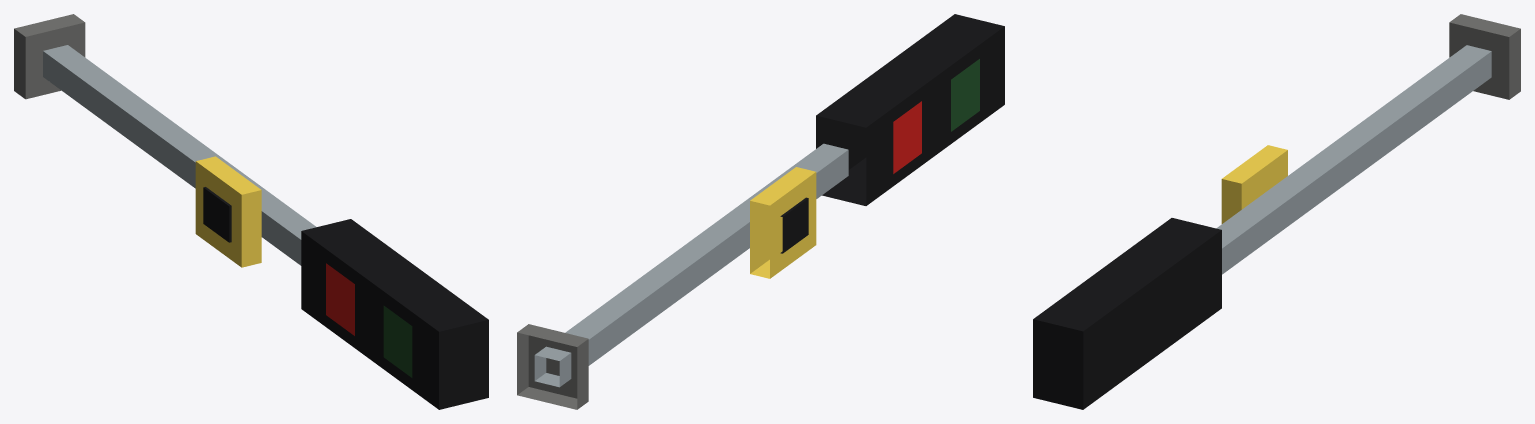
File: red.glb
The picture shows the model from 3 angles, left to right: view 1: azimuth 30°, elevation 25°; view 2: azimuth 150°, elevation 25°; view 3: azimuth 330°, elevation 25°; orthographic projection.
Visible parts, largest first — view 1: signal_electric_combo_red; view 2: signal_electric_combo_red; view 3: signal_electric_combo_red.
Boxes of the visible parts, left/top/right/bottom form: signal_electric_combo_red: left=14, top=14, right=488, bottom=409; signal_electric_combo_red: left=517, top=14, right=1004, bottom=409; signal_electric_combo_red: left=1033, top=14, right=1520, bottom=409.
Size of the model in its own units: 1.35 by 1.5 by 14.8.
